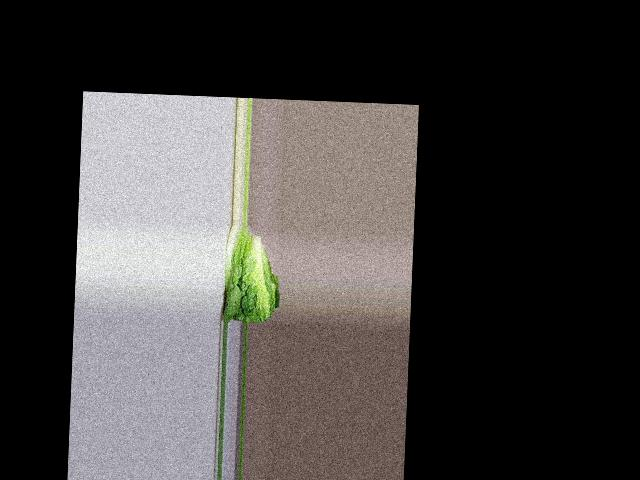lettuce: (220, 229, 275, 325)
